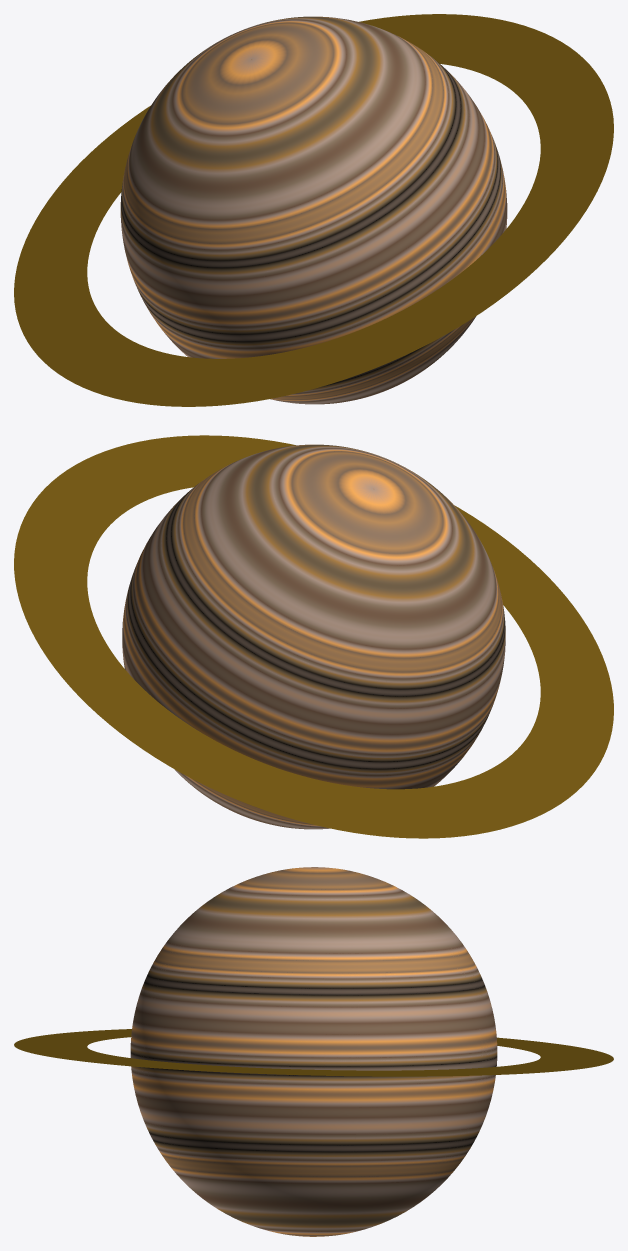
Rendered from PlanetSaturn.fbx.
The picture shows the model from 3 angles, top to bottom: view 1: azimuth 30°, elevation 25°; view 2: azimuth 150°, elevation 25°; view 3: azimuth 270°, elevation 25°; orthographic projection. The views are drawn at different scales.
Visible parts, largest first — view 1: Sphere, Circle; view 2: Sphere, Circle; view 3: Sphere, Circle.
Part boxes in pixels (x1,y1,x2,y2): Sphere: (120, 16, 507, 404); Circle: (14, 14, 613, 406); Sphere: (122, 444, 505, 829); Circle: (14, 435, 613, 838); Sphere: (130, 867, 497, 1236); Circle: (14, 1029, 613, 1076).
Bounding box in the file's own units: 303 × 199 × 323.
